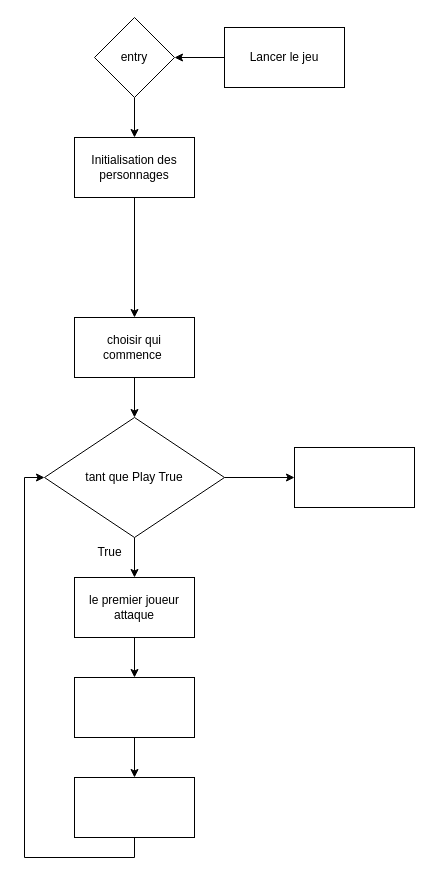
Some shapes in this 432 by 883 pixel diagram are drawn without their labels. Each missing label, with the centre of its shape:
actual player Win: (x=354, y=477)
le deuxieme joueur attaque: (x=134, y=807)
vérifier l'état de la cible: (x=134, y=707)
